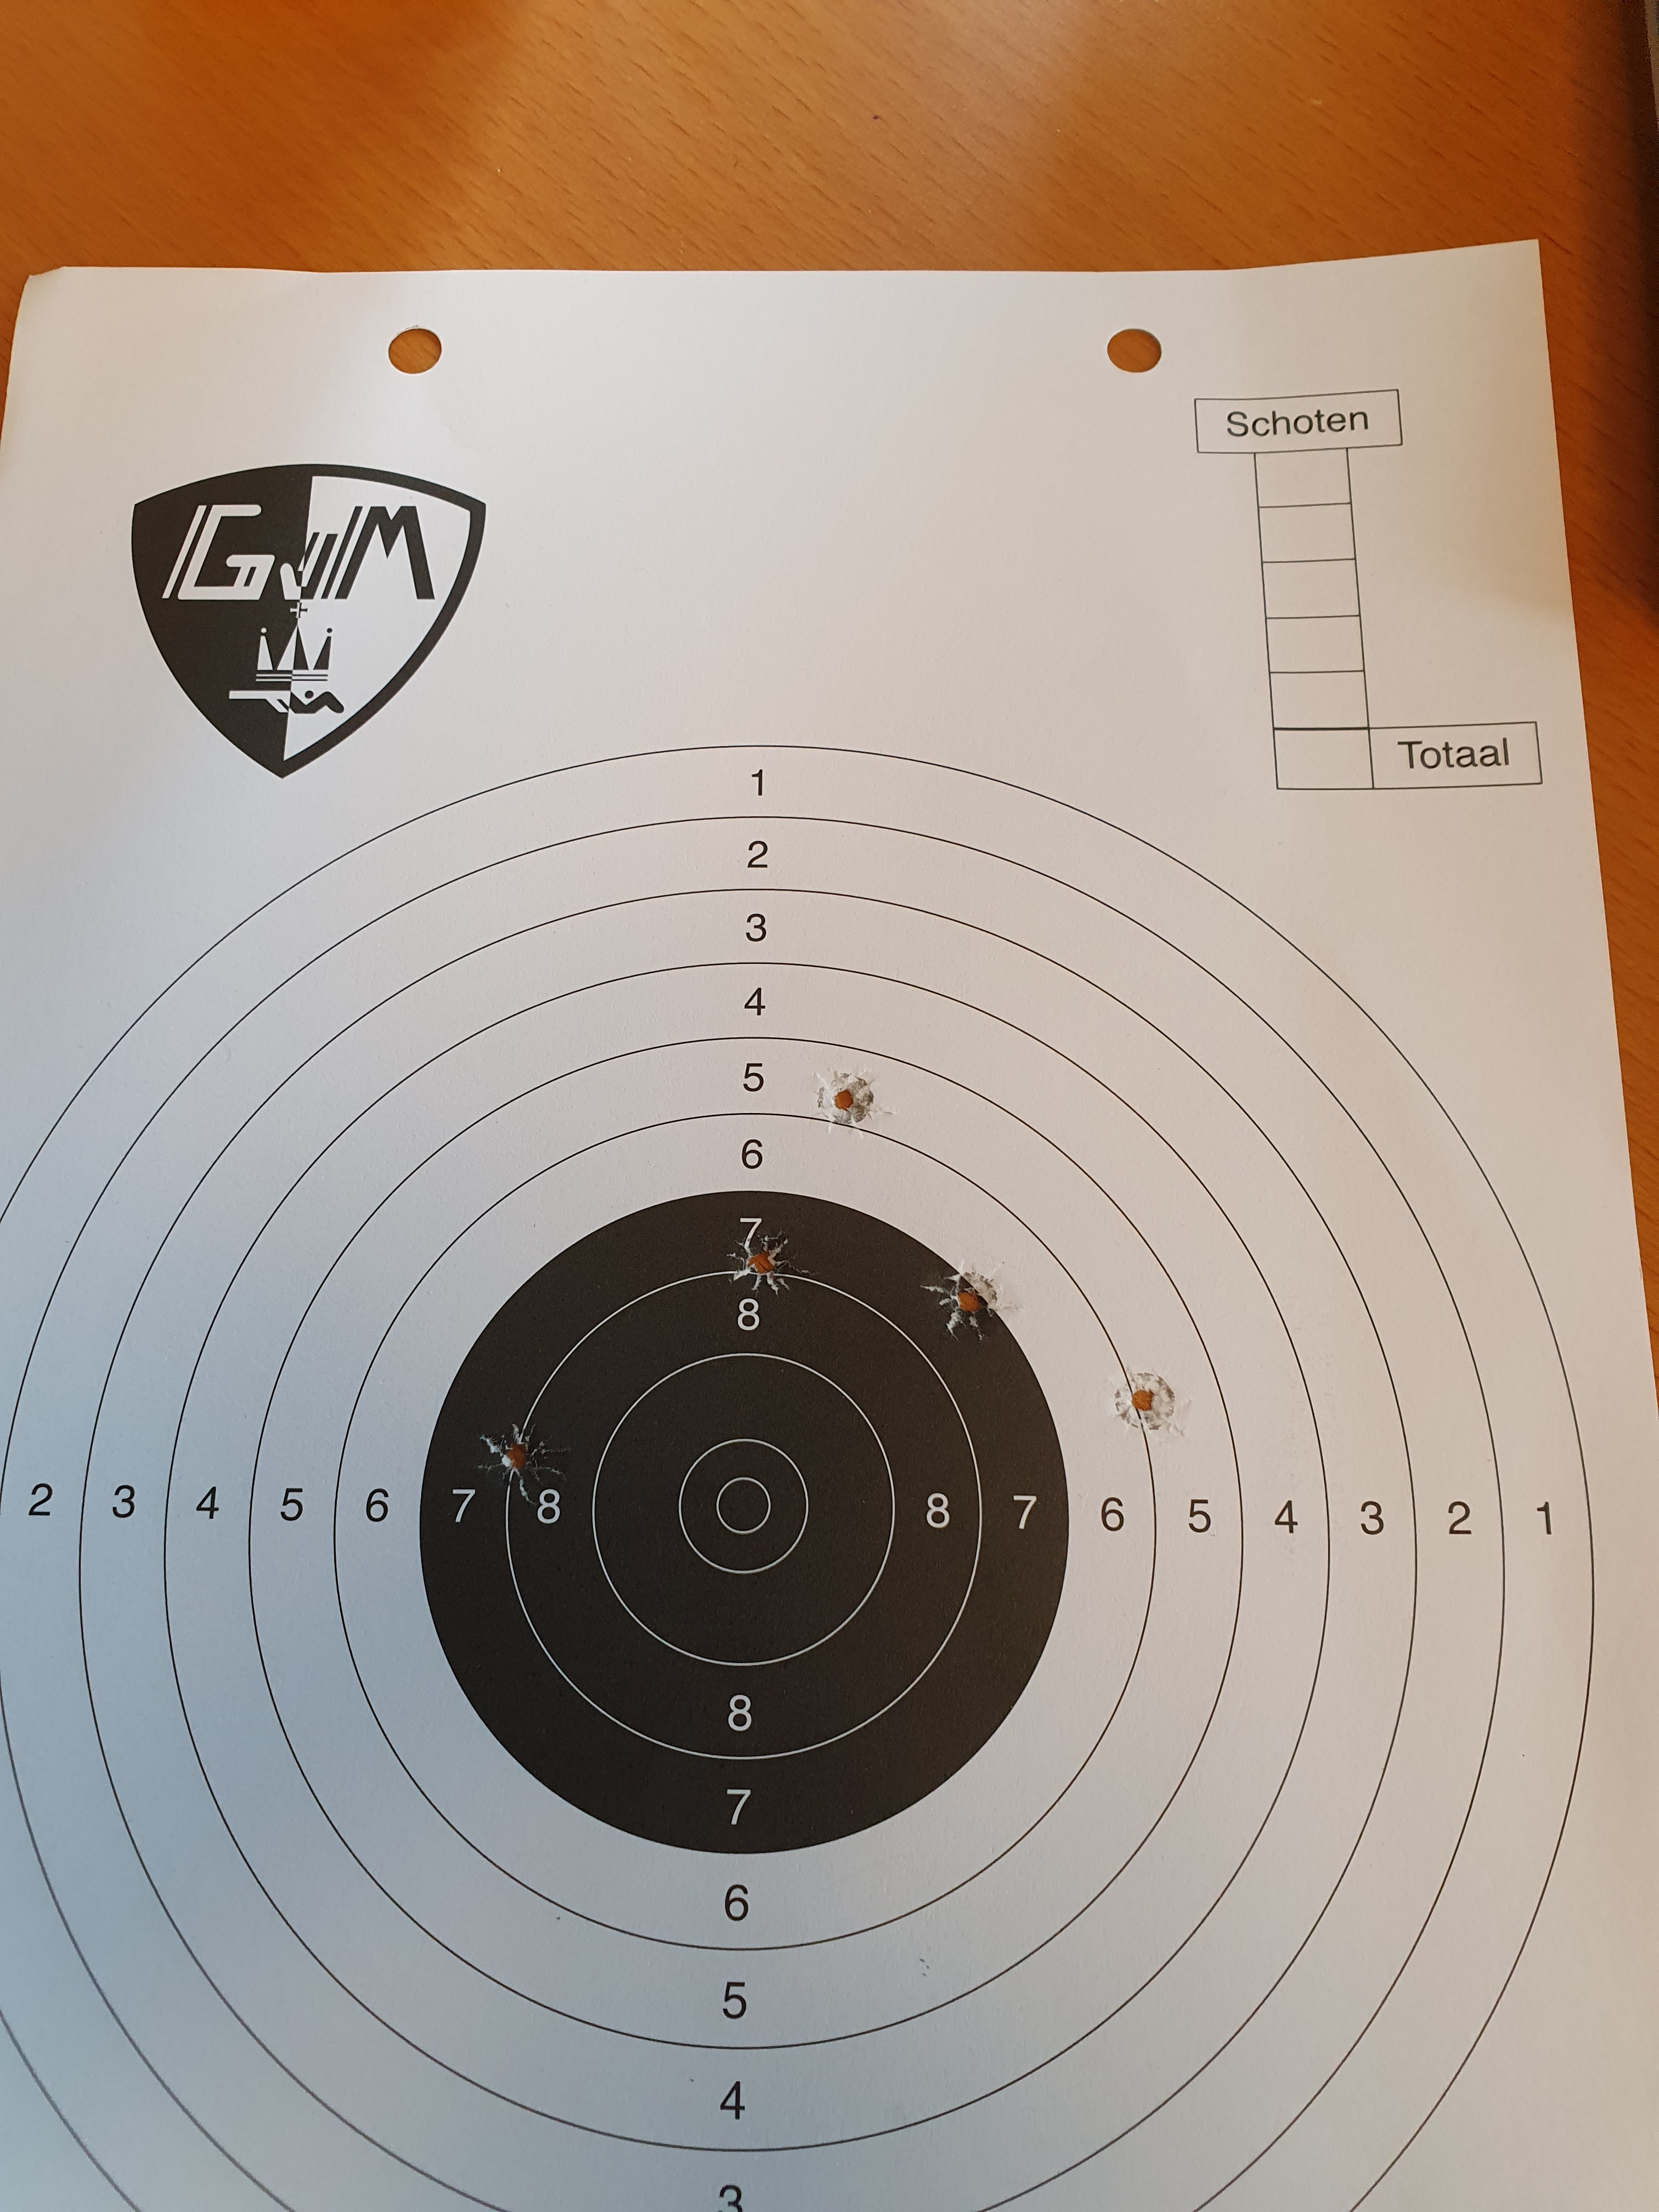center: (418, 1190, 1070, 1855)
out: (0, 745, 1595, 2212)
shot: (469, 1418, 577, 1508), (918, 1256, 1025, 1345), (809, 1064, 896, 1137), (725, 1231, 823, 1296), (1110, 1364, 1192, 1440)
target: (678, 1439, 809, 1575)
